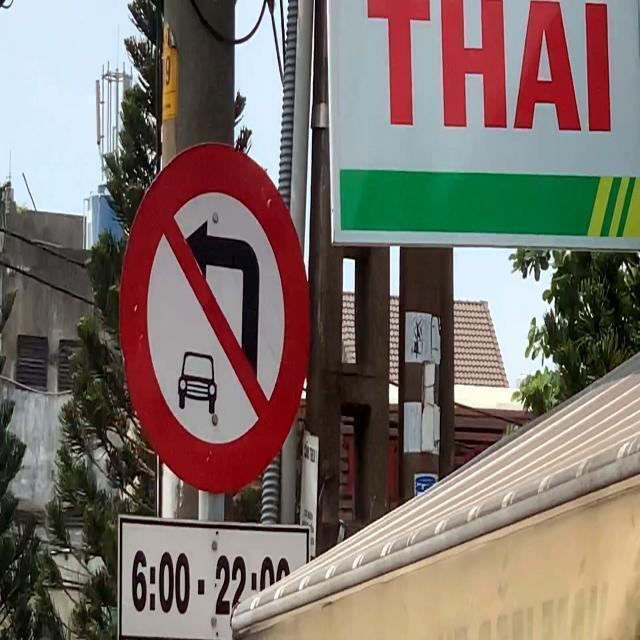123a-cam-re-trai: (118, 143, 312, 491)
